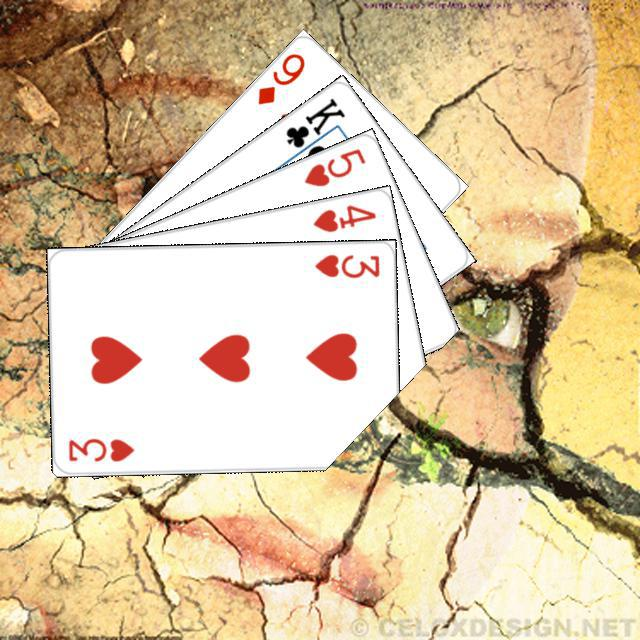3h: (309, 249, 382, 280), (64, 433, 136, 464)
4h: (308, 199, 378, 234)
5h: (299, 143, 368, 189)
9d: (252, 48, 307, 107)
Kc: (280, 92, 347, 162)
